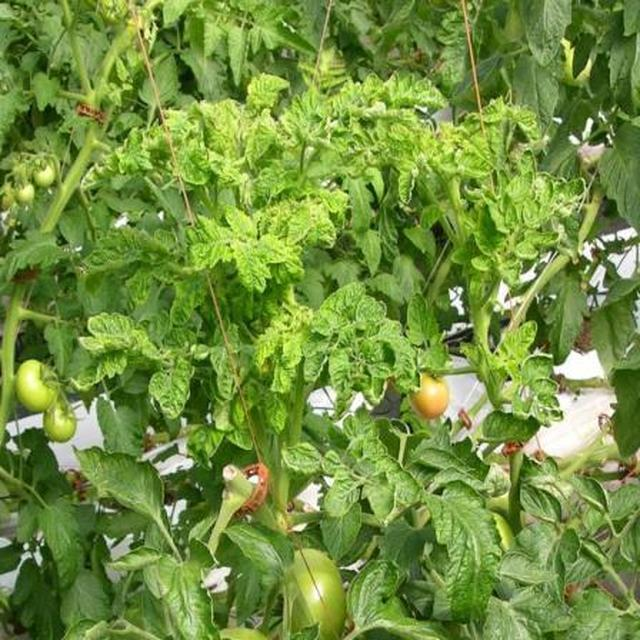Yellow Leaf Curl Virus: (30, 34, 640, 640)
